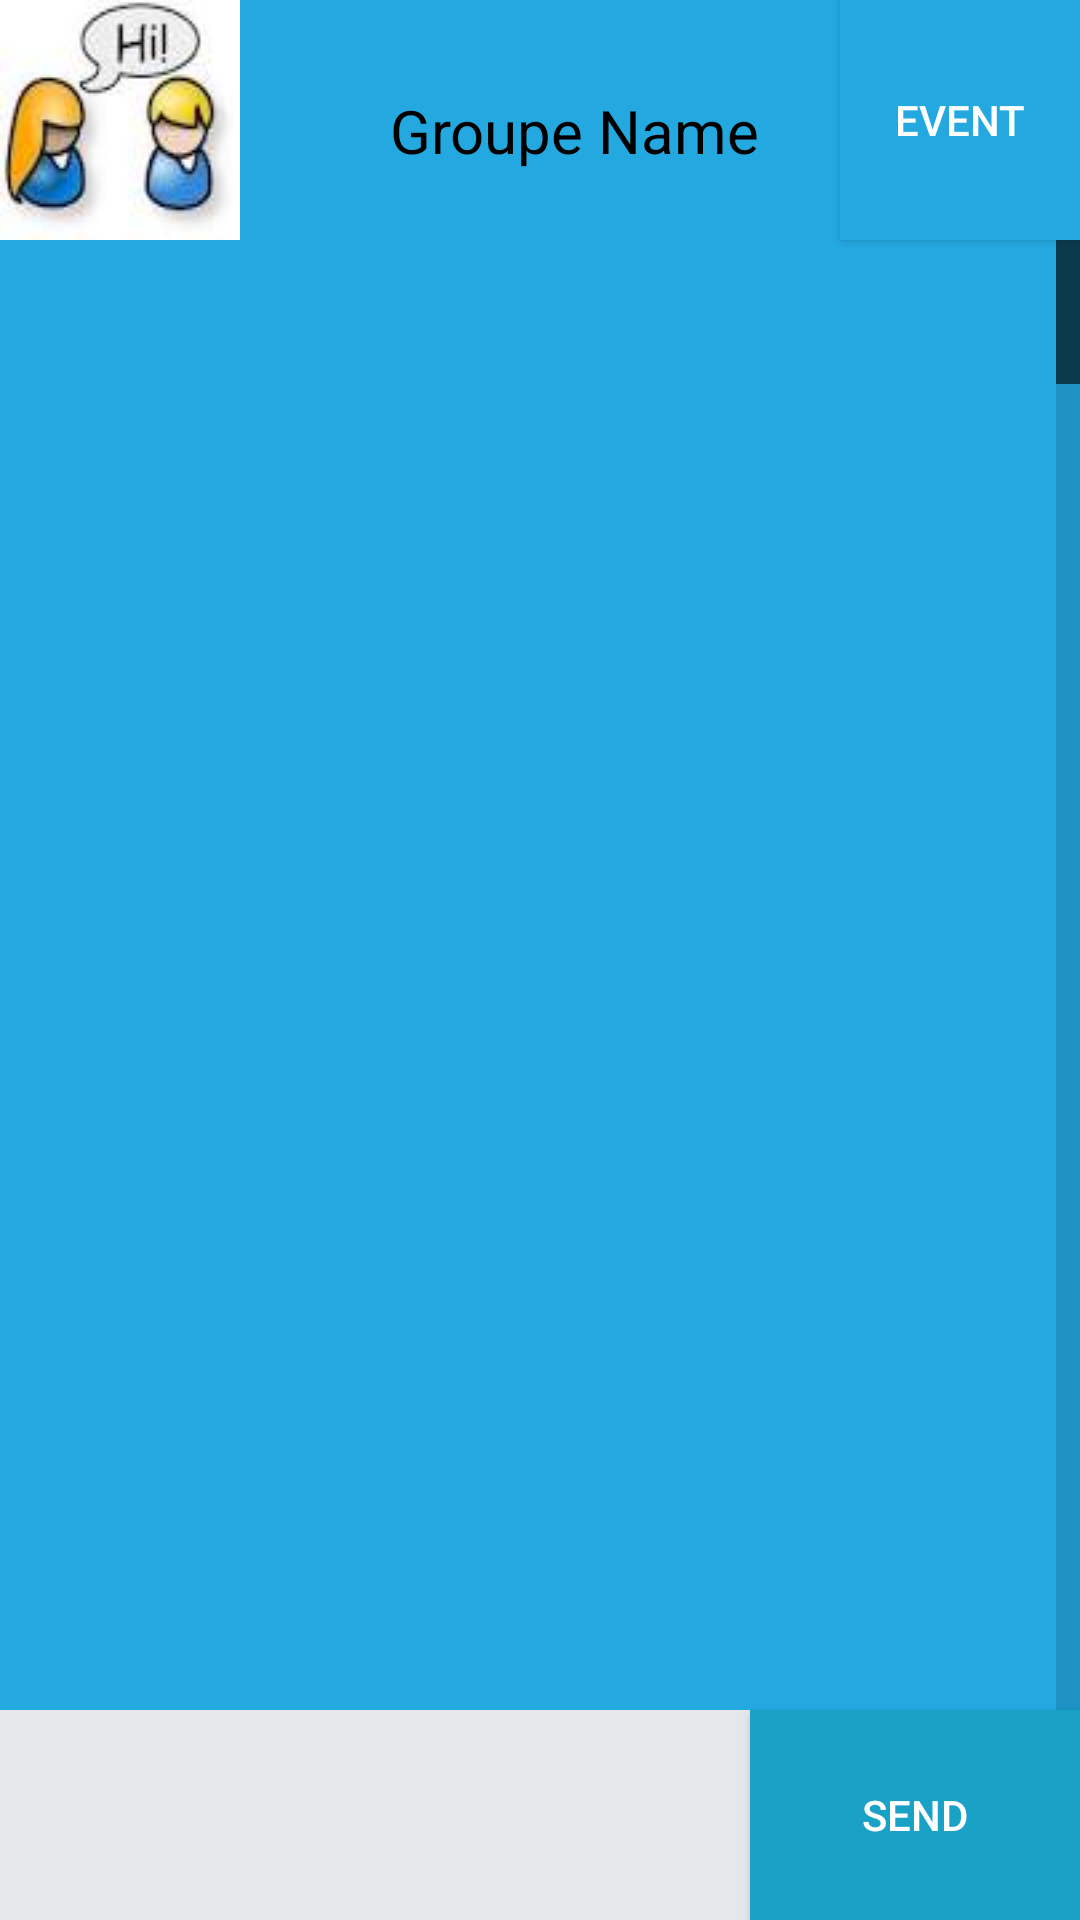

Icon bounding boxes for this 1080*1920 phone screenshot, format (x1, y1, x2, y2):
chatroom: (0, 0, 240, 240)
